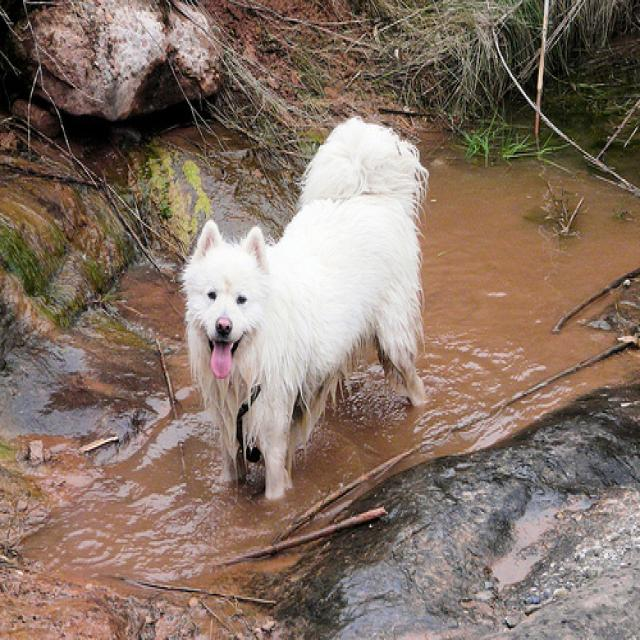dog-samoyed: (173, 109, 433, 507)
